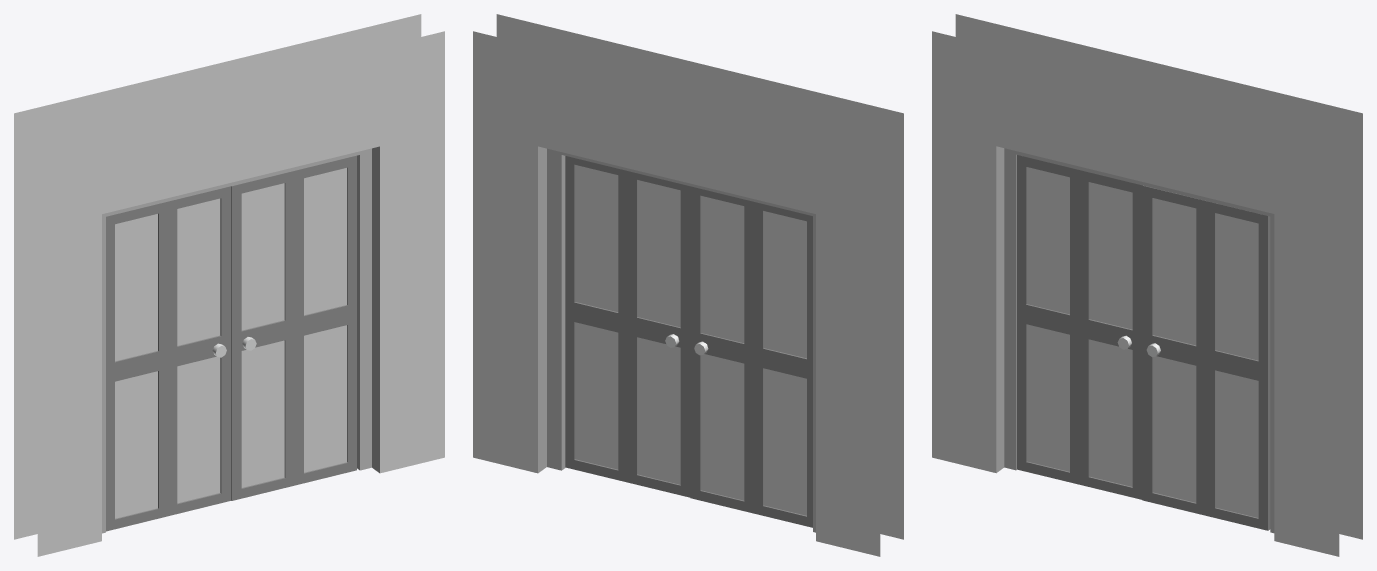
The model's file is Int_DoubleDoor_Wall.fbx.
The picture shows the model from 3 angles, left to right: view 1: azimuth 30°, elevation 25°; view 2: azimuth 150°, elevation 25°; view 3: azimuth 330°, elevation 25°; orthographic projection.
Parts seen in each view (by area): view 1: DoubleDoor_Wall, Door_R, Door_L; view 2: DoubleDoor_Wall, Door_R, Door_L; view 3: DoubleDoor_Wall, Door_R, Door_L.
Part boxes in pixels (<box>): DoubleDoor_Wall: <box>14,14,444,556</box>; Door_R: <box>231,155,356,500</box>; Door_L: <box>106,186,230,531</box>; DoubleDoor_Wall: <box>473,14,903,556</box>; Door_R: <box>565,156,690,497</box>; Door_L: <box>690,186,812,527</box>; DoubleDoor_Wall: <box>932,14,1362,556</box>; Door_R: <box>1142,185,1270,530</box>; Door_L: <box>1017,155,1142,499</box>.
Size of the model in its own units: 300 by 300 by 30.
